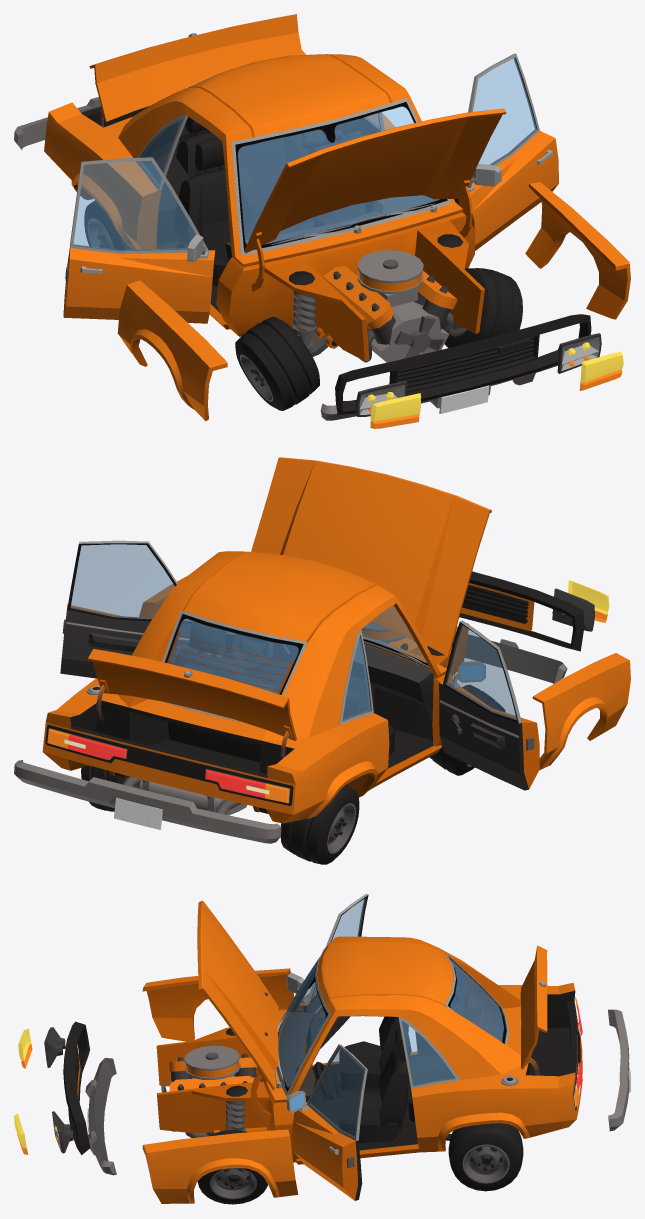
The model's file is car_orange.glb.
The picture shows the model from 3 angles, top to bottom: view 1: azimuth 30°, elevation 25°; view 2: azimuth 150°, elevation 25°; view 3: azimuth 270°, elevation 25°; orthographic projection. The views are drawn at different scales.
Visible parts, largest first — view 1: Body, Doors_R, Bonnet, Doors_L, BootLid, Engine_v8_4, Grill_F, Fender_FR, Wheel_FR, Fender_FL, Wheel_FL, Bumper_F (+10 smaller); view 2: Body, Bonnet, Doors_L, Doors_R, BootLid, Bumper_R, Fender_FR, Grill_F, Wheel_RR, Bumper_F, HeadlightGlass_RR, InteriorAssymetry_6 (+6 smaller); view 3: Body, Doors_L, Bonnet, Fender_FL, Wheel_RL, Fender_FR, Engine_v8_4, BootLid, Doors_R, Grill_F, Wheel_FL, Bumper_F (+5 smaller).
Boxes of the visible parts, <box> form: Body: <box>44,50,484,361</box>; Doors_R: <box>63,157,215,323</box>; Bonnet: <box>244,108,506,291</box>; Doors_L: <box>454,53,558,250</box>; BootLid: <box>89,14,302,127</box>; Engine_v8_4: <box>323,250,457,362</box>; Grill_F: <box>335,314,591,414</box>; Fender_FR: <box>117,280,227,421</box>; Wheel_FR: <box>235,316,319,410</box>; Fender_FL: <box>525,182,630,319</box>; Wheel_FL: <box>444,268,522,347</box>; Bumper_F: <box>320,364,557,420</box>; Body: <box>42,551,469,823</box>; Bonnet: <box>251,457,491,676</box>; Doors_L: <box>60,540,197,678</box>; Doors_R: <box>439,620,539,790</box>; BootLid: <box>88,649,296,759</box>; Bumper_R: <box>14,760,281,843</box>; Fender_FR: <box>532,653,630,770</box>; Grill_F: <box>459,571,584,651</box>; Wheel_RR: <box>280,784,359,864</box>; Bumper_F: <box>464,634,567,683</box>; HeadlightGlass_RR: <box>205,769,289,803</box>; InteriorAssymetry_6: <box>231,633,290,682</box>; Body: <box>156,936,582,1164</box>; Doors_L: <box>286,1044,367,1200</box>; Bonnet: <box>197,900,278,1120</box>; Fender_FL: <box>142,1129,297,1203</box>; Wheel_RL: <box>448,1123,523,1191</box>; Fender_FR: <box>142,968,294,1041</box>; Engine_v8_4: <box>169,1045,257,1137</box>; BootLid: <box>520,945,547,1075</box>; Doors_R: <box>286,893,368,1057</box>; Grill_F: <box>63,1021,90,1155</box>; Wheel_FL: <box>198,1130,267,1204</box>; Bumper_F: <box>85,1057,116,1175</box>.
Bounding box in the file's own units: 2.37 × 1.24 × 3.07.
4 materials, 4 textured.
